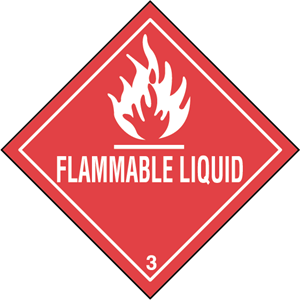FlammableLiquid: (9, 13, 282, 280)
